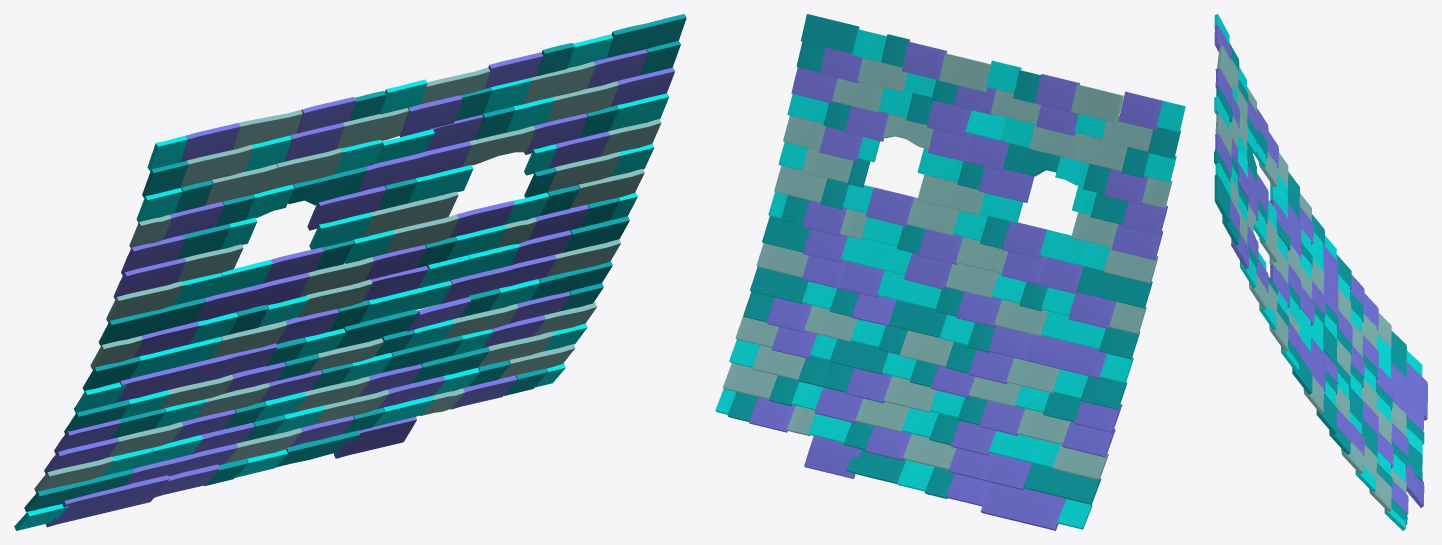
The model's file is SM_roof_3Floor_01.fbx.
3 views of the same model, side by side, from view 1: azimuth 30°, elevation 25°; view 2: azimuth 150°, elevation 25°; view 3: azimuth 270°, elevation 25° (orthographic). The views are drawn at different scales.
Parts seen in each view (by area): view 1: SM_roof_3Floor; view 2: SM_roof_3Floor; view 3: SM_roof_3Floor.
Part boxes in pixels (x1,y1,x2,y2): SM_roof_3Floor: [14, 14, 686, 530]; SM_roof_3Floor: [715, 14, 1185, 530]; SM_roof_3Floor: [1214, 14, 1427, 530].
Bounding box in the file's own units: 7.1 × 6.39 × 3.46.
